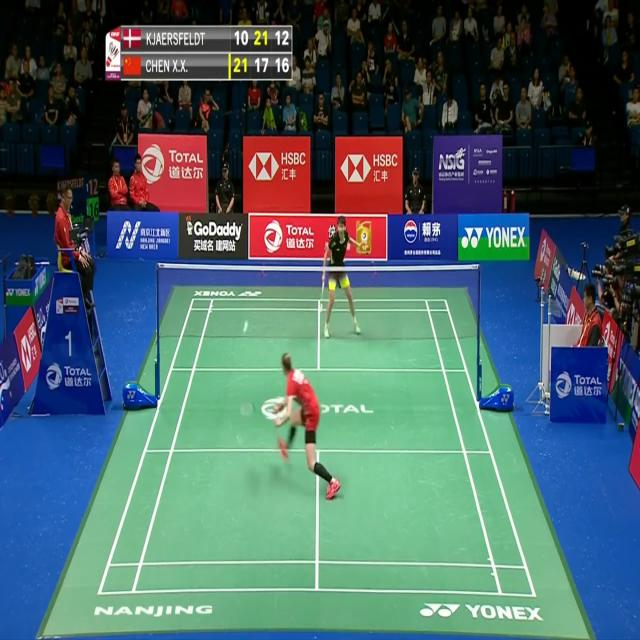Player1: (273, 342, 345, 502)
Player2: (318, 205, 369, 347)
